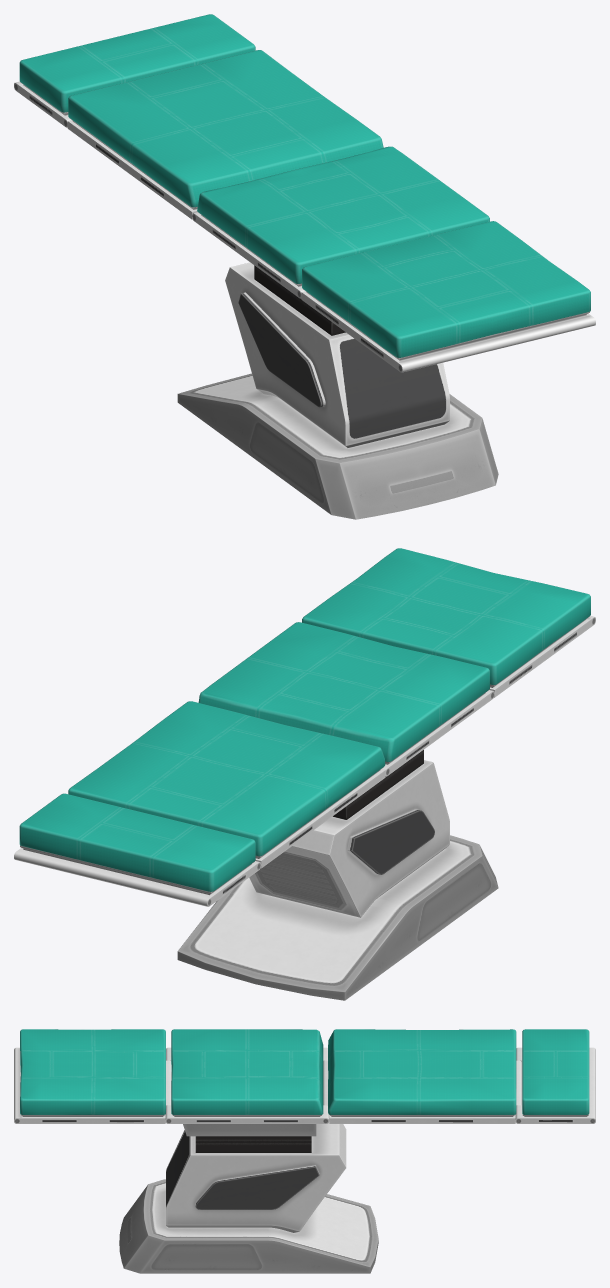
The model's file is MedSurgicalTable02_1.FBX.
3 views of the same model, one above another, from view 1: azimuth 30°, elevation 25°; view 2: azimuth 150°, elevation 25°; view 3: azimuth 270°, elevation 25° (orthographic). The views are drawn at different scales.
Parts seen in each view (by area): view 1: MedSurgicalTable02_1; view 2: MedSurgicalTable02_1; view 3: MedSurgicalTable02_1.
Boxes of the visible parts, bbox=[...] form: MedSurgicalTable02_1: bbox=[14, 14, 595, 519]; MedSurgicalTable02_1: bbox=[14, 548, 595, 1000]; MedSurgicalTable02_1: bbox=[14, 1029, 595, 1273].
Size of what is drawn, in the model's own units: 0.774 by 0.9049 by 2.65.
